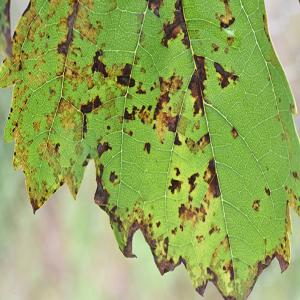Folha: (0, 0, 299, 298)
Fungo: (152, 68, 183, 144), (160, 0, 190, 49), (214, 60, 240, 88), (215, 0, 235, 29), (116, 62, 135, 88), (91, 48, 108, 77), (96, 140, 112, 158), (188, 172, 200, 192), (168, 178, 182, 194), (109, 170, 120, 186), (208, 222, 220, 236), (135, 81, 146, 95), (252, 198, 260, 212), (32, 119, 41, 131), (230, 126, 238, 139), (290, 102, 298, 115), (143, 142, 151, 154), (226, 35, 234, 46), (211, 42, 219, 52), (292, 170, 299, 181), (264, 186, 270, 196), (54, 142, 60, 152), (174, 166, 180, 176)
